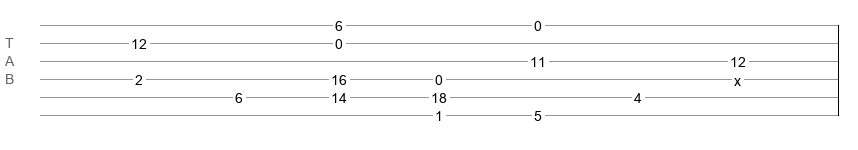0: (335, 36, 343, 46), (435, 72, 443, 82), (534, 18, 542, 28)
1: (435, 108, 443, 118)
11: (530, 54, 546, 64)
12: (131, 36, 147, 46), (730, 54, 746, 64)
14: (331, 90, 347, 100)
16: (331, 72, 347, 82)
18: (431, 90, 447, 100)
2: (135, 72, 143, 82)
4: (634, 90, 642, 100)
5: (534, 108, 542, 118)
6: (235, 90, 243, 100), (335, 18, 343, 28)
x: (734, 73, 741, 81)
